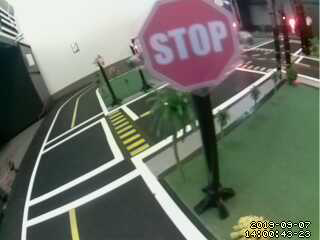Stop_Sign: (131, 3, 248, 91)
